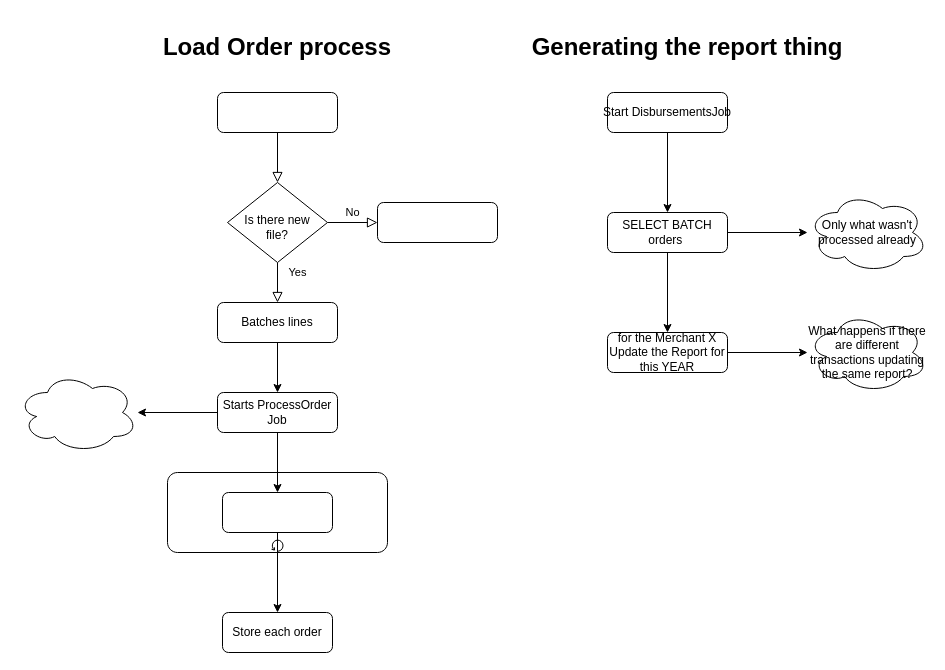
Some shapes in this 945 by 670 pixel diagram are drawn without their labels. The shapes that lost their labels are listed below. From the top down, each one's centre as x and y in pixels, then its label:
At (x=277, y=112): "Read File task".
At (x=437, y=222): "Sleep".
At (x=77, y=412): "There are some validations here".
At (x=277, y=512): "Calculates Business Logic".
